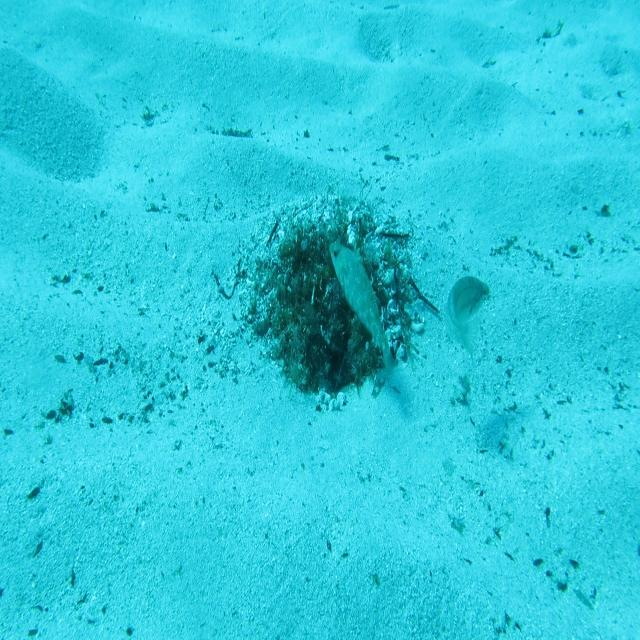ROLL: (328, 239, 399, 386)
core_nest: (310, 236, 371, 287)
female: (442, 270, 491, 367)
nest: (223, 189, 437, 431)
